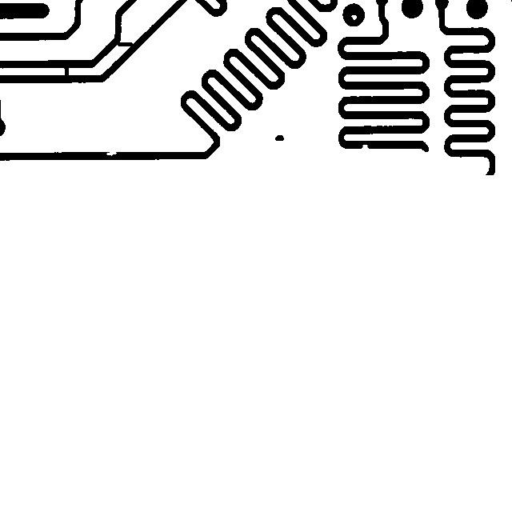copper: (267, 127, 291, 148)
mousebite: (98, 141, 124, 163), (354, 137, 376, 157)
pin-hole: (343, 7, 364, 27)
short: (110, 34, 140, 54), (56, 56, 76, 84)
